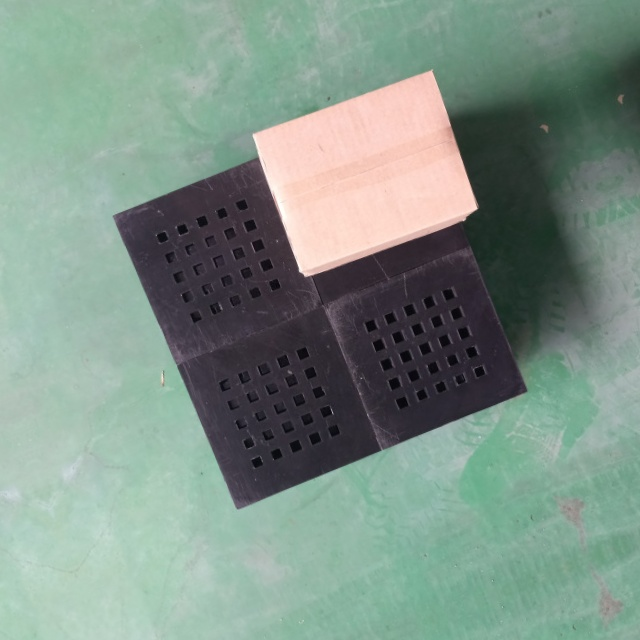box: (247, 64, 482, 282)
pallet: (107, 87, 542, 515)
